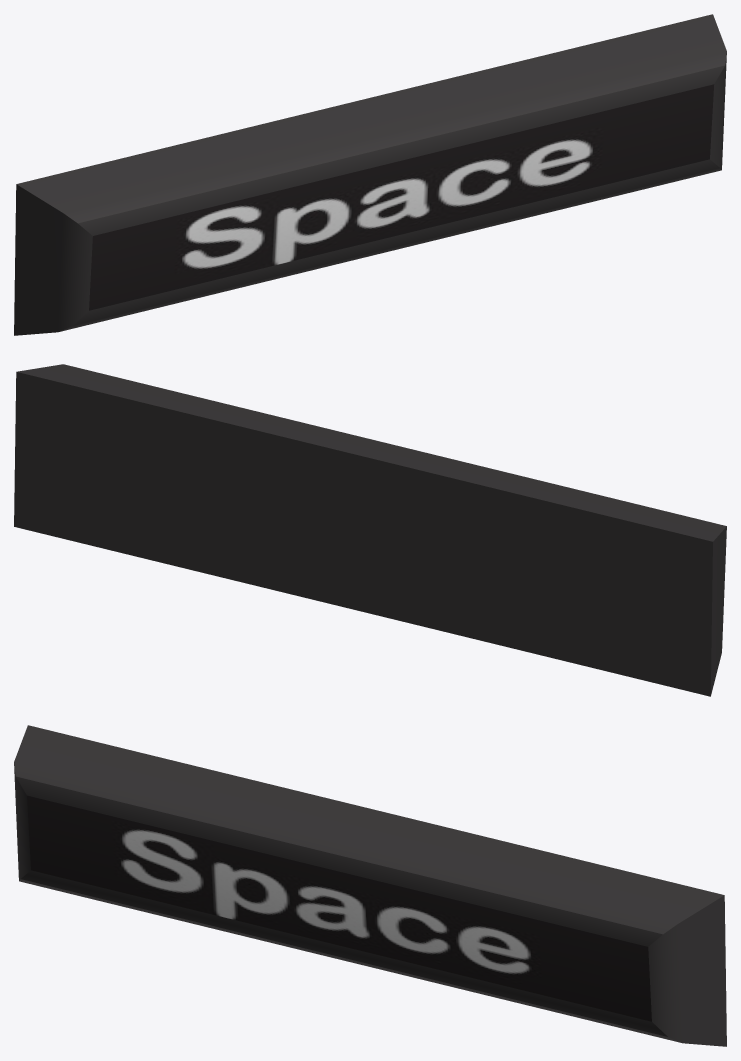
File: spaceKEY.fbx
3 views of the same model, one above another, from view 1: azimuth 30°, elevation 25°; view 2: azimuth 150°, elevation 25°; view 3: azimuth 330°, elevation 25° (orthographic).
Visible parts, largest first — view 1: spaceKey; view 2: spaceKey; view 3: spaceKey.
Part boxes in pixels (x1,y1,x2,y2): spaceKey: [14, 14, 726, 335]; spaceKey: [14, 364, 726, 696]; spaceKey: [14, 725, 726, 1046].
Bounding box in the file's own units: 4.75 × 0.9996 × 0.4855.
Materials: 2 (1 with a texture image).
